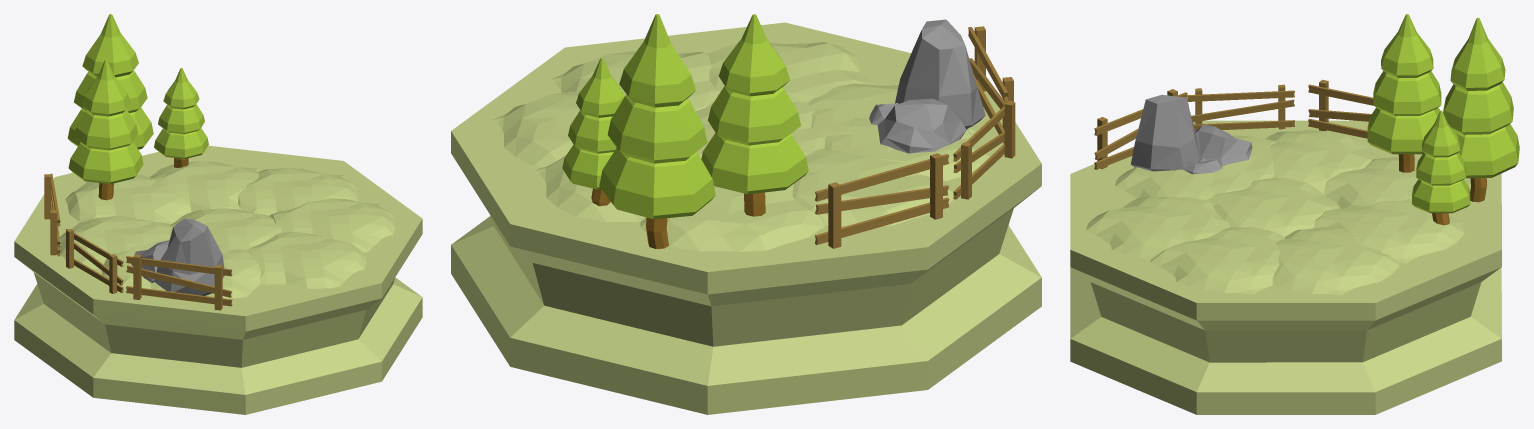
Rendered from land_nature.fbx.
3 renders of one model, left to right at view 1: azimuth 30°, elevation 25°; view 2: azimuth 150°, elevation 25°; view 3: azimuth 270°, elevation 25°, orthographic. The views are drawn at different scales.
Visible parts, largest first — view 1: Cylinder, Cone, Plane_003, Plane_004, Plane_007, Plane_006, Plane_002, Plane_008, Sphere, Cube, Plane_005, Plane_009 (+5 smaller); view 2: Cylinder, Cone, Plane_007, Sphere, Plane_008, Cube_002, Plane_003, Plane_006, Sphere_002, Plane_003_001, Plane_009, Plane_004 (+5 smaller); view 3: Cylinder, Cone, Plane_004, Plane_006, Plane_003, Plane_002, Plane_005, Plane_008, Sphere, Plane_007, Plane_009, Cube_001 (+6 smaller).
Boxes of the visible parts, x1,y1,x2,y2 form: Cylinder: (14,145,422,414); Cone: (67,14,208,184); Plane_003: (246,232,366,288); Plane_004: (270,198,395,252); Plane_007: (65,175,190,223); Plane_006: (238,168,358,215); Plane_002: (149,161,260,212); Plane_008: (59,215,171,268); Sphere: (154,218,224,295); Cube: (126,254,232,310); Plane_005: (170,208,281,250); Plane_009: (164,244,261,298); Cylinder: (451,22,1041,414); Cone: (562,14,808,219); Plane_007: (640,184,825,251); Sphere: (895,19,985,129); Plane_008: (792,149,955,226); Cube_002: (815,153,949,248); Plane_003: (707,42,874,102); Plane_006: (492,91,579,167); Sphere_002: (877,98,966,153); Plane_003_001: (824,118,990,180); Plane_009: (808,83,975,135); Plane_004: (550,51,719,110); Cylinder: (1070,120,1501,414); Cone: (1367,14,1519,213); Plane_004: (1150,227,1284,294); Plane_006: (1272,227,1399,295); Plane_003: (1086,196,1229,259); Plane_002: (1314,199,1464,263); Plane_005: (1206,178,1340,236); Plane_008: (1265,130,1381,193); Sphere: (1130,94,1199,171); Plane_007: (1324,156,1470,208); Plane_009: (1115,167,1252,199); Cube_001: (1187,84,1294,131).
Bounding box in the file's own units: 13.02 × 9.73 × 13.56.
